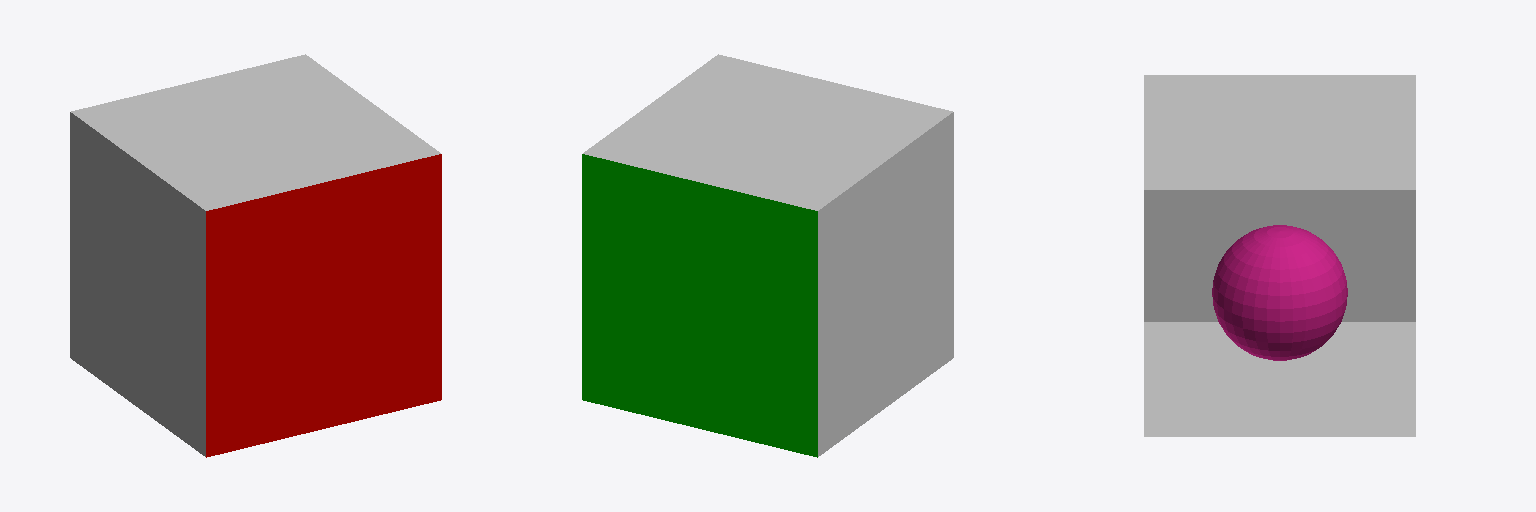
The model's file is CornelBox.obj.
The picture shows the model from 3 angles: view 1: azimuth 30°, elevation 25°; view 2: azimuth 150°, elevation 25°; view 3: azimuth 270°, elevation 25°; orthographic projection.
Parts seen in each view (by area): view 1: Cube; view 2: Cube; view 3: Cube, Sphere.
Boxes of the visible parts, <box> form: Cube: <box>70,54,441,457</box>; Cube: <box>582,54,953,457</box>; Cube: <box>1144,75,1415,436</box>; Sphere: <box>1212,225,1347,360</box>.
Size of the model in its own units: 4 by 4 by 4.